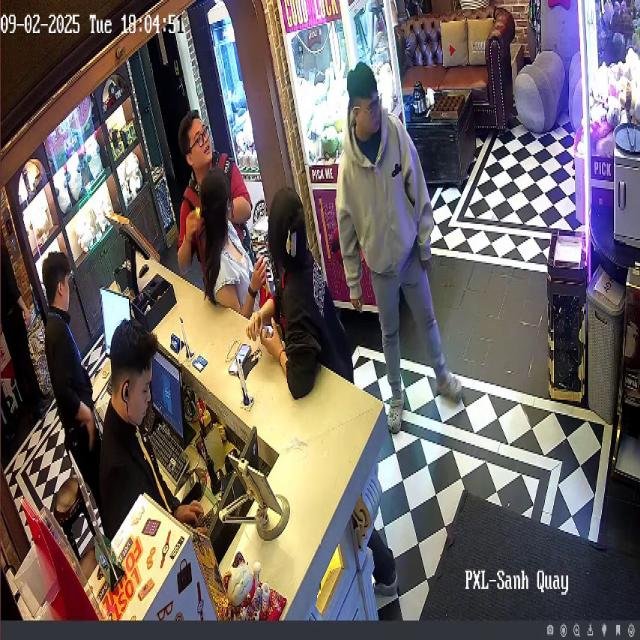khach: (335, 52, 471, 438), (92, 298, 223, 599), (250, 172, 358, 424), (27, 237, 103, 520), (150, 91, 256, 272), (196, 169, 258, 333)
